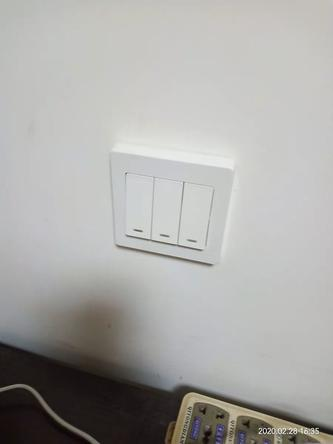switch: (149, 173, 187, 250), (176, 176, 214, 252), (121, 167, 157, 246)
